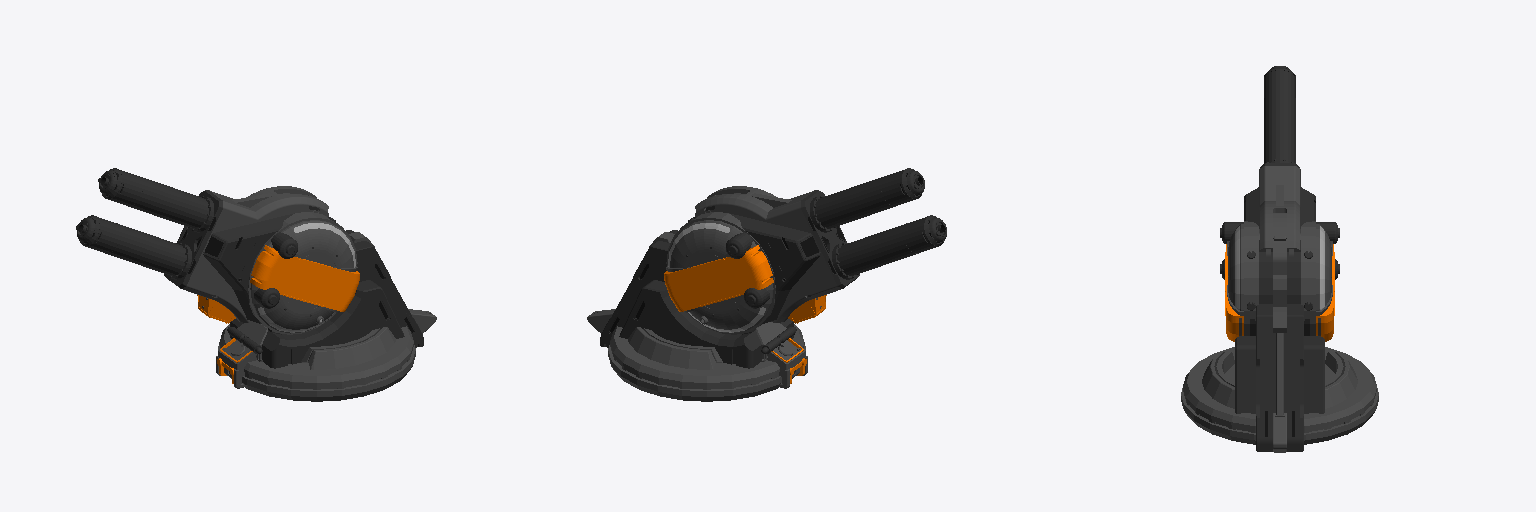
File: turret.obj
The picture shows the model from 3 angles: view 1: azimuth 30°, elevation 25°; view 2: azimuth 150°, elevation 25°; view 3: azimuth 270°, elevation 25°; orthographic projection.
Visible parts, largest first — view 1: G-__555744, G-__556086, G-__555582, G-__555735, G-__555663, Component#1, Component#1.001, G-__555996, G-__555753, G-__555879, G-__555834, G-__556050; view 2: G-__555744, G-__556086, G-__555582, G-__556023, G-__555969, Component#1, Component#1.001, G-__555870, G-__555762, G-__555879, G-__555834, G-__556050; view 3: G-__555582, G-__555879, G-__555744, G-__556086, Component#1, G-__556023, G-__555735, G-__555762, G-__555753, G-__555969, G-__555663, G-__555798.
Part boxes in pixels (x1,y1,x2,y2): G-__555744: (218,324,415,401); G-__556086: (164,186,328,322); G-__555582: (248,212,357,334); G-__555735: (262,280,404,368); G-__555663: (250,245,359,311); Component#1: (99,168,213,232); Component#1.001: (77,215,191,279); G-__555996: (203,213,294,323); G-__555753: (301,327,395,369); G-__555879: (268,230,423,347); G-__555834: (216,322,267,388); G-__556050: (197,295,235,323); G-__555744: (608,324,805,401); G-__556086: (695,186,859,322); G-__555582: (666,212,775,334); G-__556023: (619,280,761,368); G-__555969: (664,245,773,311); Component#1: (810,168,924,232); Component#1.001: (832,215,946,279); G-__555870: (729,213,820,323); G-__555762: (628,327,722,369); G-__555879: (600,230,755,347); G-__555834: (756,322,807,388); G-__556050: (788,295,826,323); G-__555582: (1228,221,1331,335); G-__555879: (1256,290,1303,451); G-__555744: (1181,347,1378,444); G-__556086: (1259,163,1300,274); Component#1: (1264,66,1295,163); G-__556023: (1304,336,1324,413); G-__555735: (1235,336,1255,413); G-__555762: (1325,351,1357,408); G-__555753: (1202,351,1234,408); G-__555969: (1316,244,1334,341); G-__555663: (1225,244,1243,341); G-__555798: (1273,413,1286,452).
Bounding box in the file's own units: 22.04 × 14.29 × 10.69.